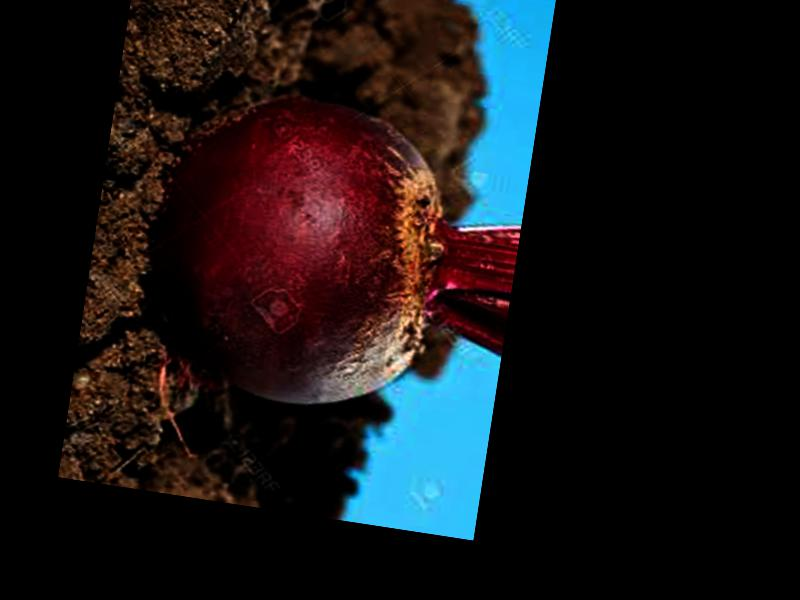Beet: (134, 80, 532, 435)
